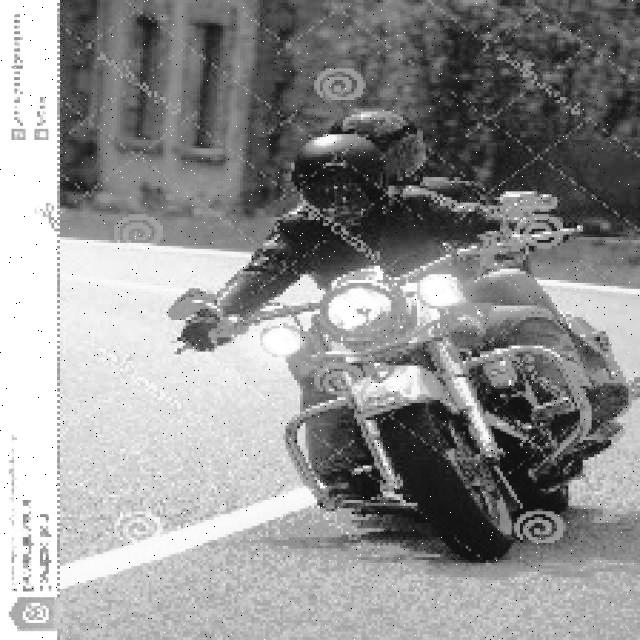Bike: (270, 284, 616, 558)
